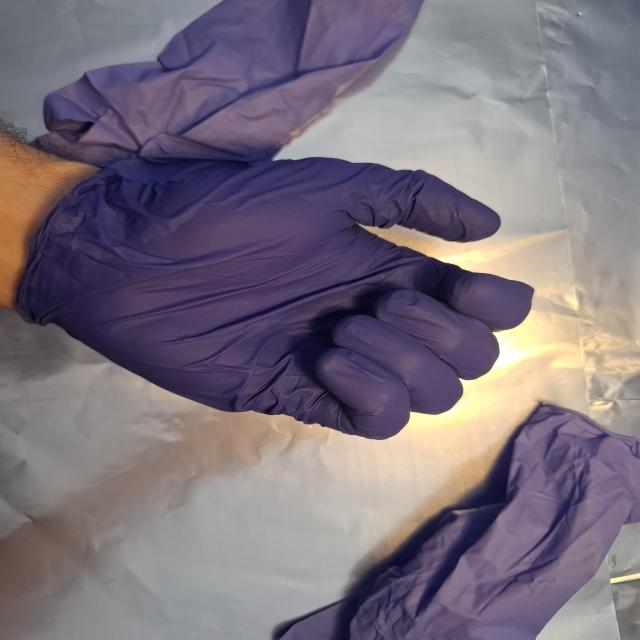glove_on: (20, 148, 541, 446)
